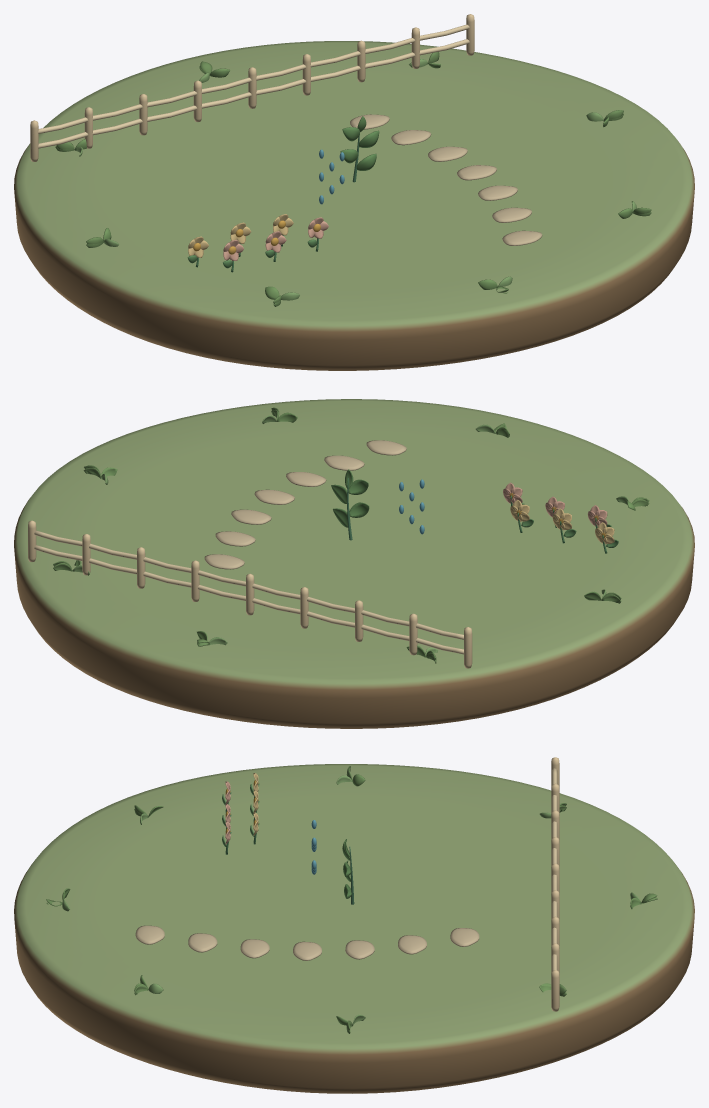
The model's file is environment-korean.glb.
3 views of the same model, one above another, from view 1: azimuth 30°, elevation 25°; view 2: azimuth 150°, elevation 25°; view 3: azimuth 270°, elevation 25° (orthographic).
Parts seen in each view (by area): view 1: static-environment-organic, static-environment-wood, garden-sprig-organic; view 2: static-environment-organic, static-environment-wood, garden-sprig-organic; view 3: static-environment-organic, static-environment-wood.
Boxes of the visible parts, x1,y1,x2,y2 form: static-environment-organic: [14, 41, 694, 370]; static-environment-wood: [30, 14, 474, 161]; garden-sprig-organic: [340, 116, 379, 182]; static-environment-organic: [14, 399, 694, 728]; static-environment-wood: [28, 520, 472, 668]; garden-sprig-organic: [331, 469, 369, 540]; static-environment-organic: [14, 764, 694, 1093]; static-environment-wood: [551, 757, 559, 1011].
Size of the model in its own units: 9.74 by 1.86 by 9.74.
